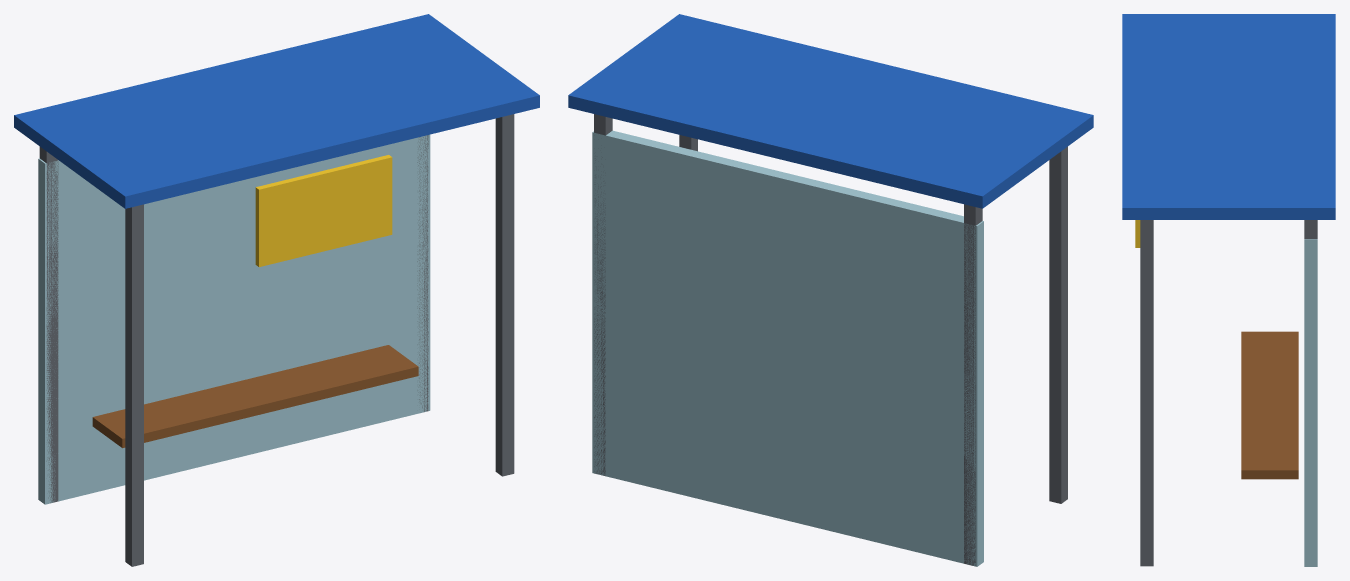
File: bus_stop.glb
3 renders of one model, left to right at view 1: azimuth 30°, elevation 25°; view 2: azimuth 150°, elevation 25°; view 3: azimuth 270°, elevation 25°, orthographic. The views are drawn at different scales.
Parts seen in each view (by area): view 1: Cube; view 2: Cube; view 3: Cube.
Boxes of the visible parts, x1,y1,x2,y2 form: Cube: (14, 14, 539, 566); Cube: (568, 14, 1093, 566); Cube: (1122, 14, 1335, 566).
Size of the model in its own units: 2.8 by 2.46 by 1.3.
